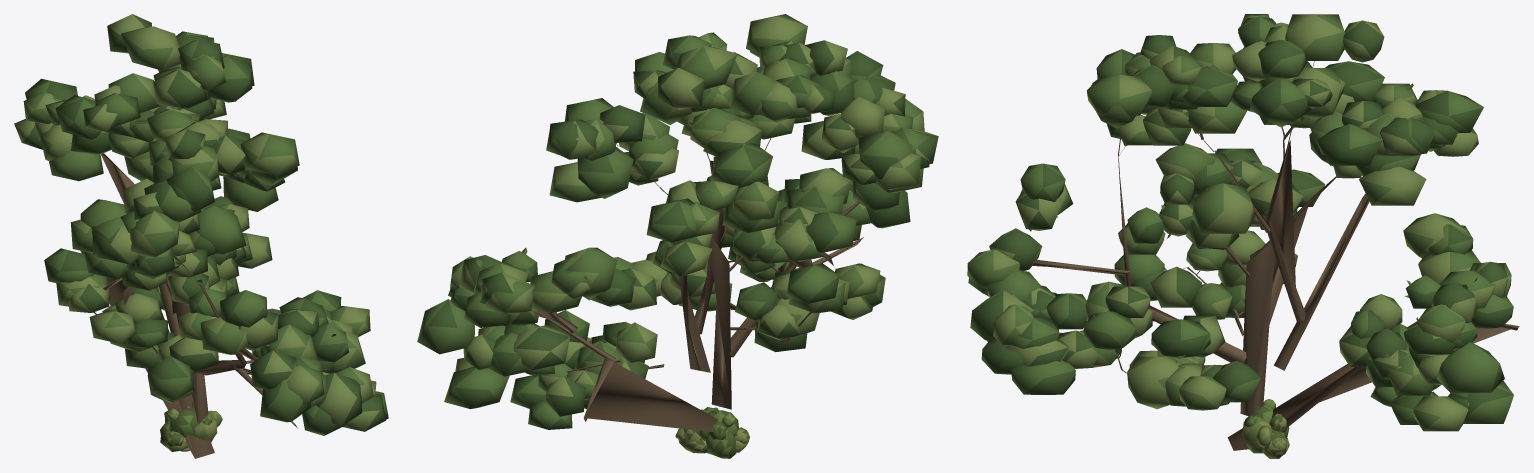
Rendered from vegetation.glb.
3 views of the same model, side by side, from view 1: azimuth 30°, elevation 25°; view 2: azimuth 150°, elevation 25°; view 3: azimuth 270°, elevation 25° (orthographic). The views are drawn at different scales.
Parts seen in each view (by area): view 1: OakLeafMasses, OakTrunk, Bocage; view 2: OakLeafMasses, OakTrunk, Bocage; view 3: OakLeafMasses, OakTrunk, Bocage.
Boxes of the visible parts, box(x1,y1,x2,y2) form: OakLeafMasses: box(14, 14, 388, 435); OakTrunk: box(80, 65, 330, 458); Bocage: box(160, 401, 222, 451); OakLeafMasses: box(417, 14, 938, 429); OakTrunk: box(467, 138, 863, 434); Bocage: box(675, 407, 749, 458); OakLeafMasses: box(967, 14, 1513, 431); OakTrunk: box(1032, 48, 1519, 450); Bocage: box(1242, 399, 1289, 458).
Size of the model in its own units: 9.51 by 11.08 by 12.93.
